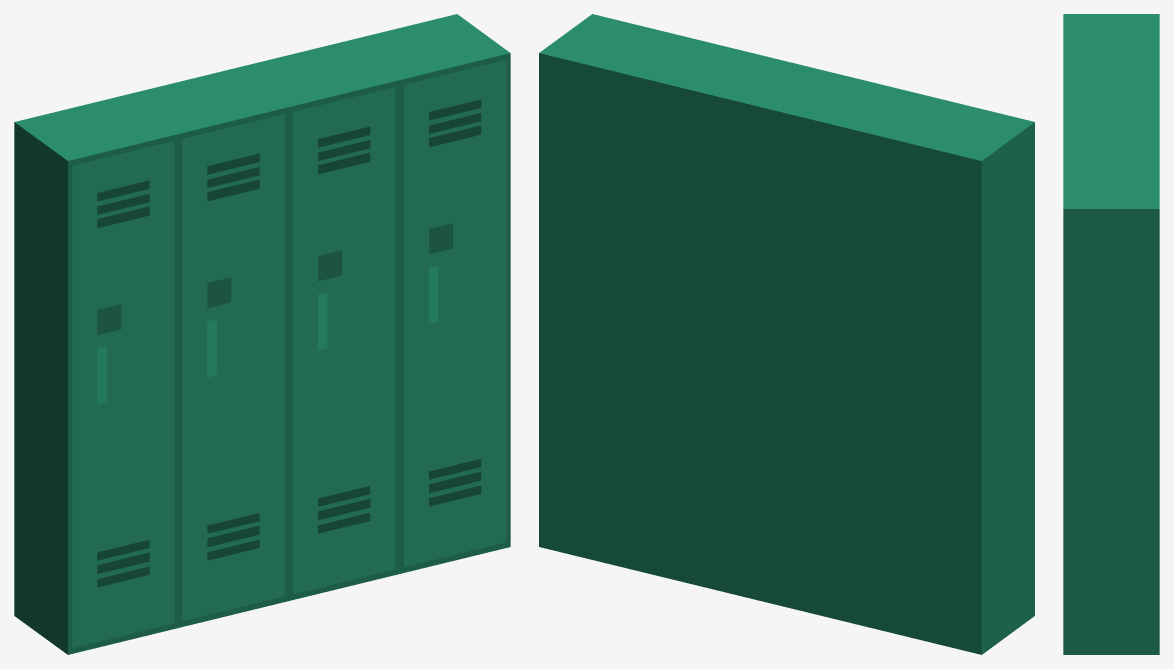
Rendered from SO_Lockers_02.fbx.
The picture shows the model from 3 angles, left to right: view 1: azimuth 30°, elevation 25°; view 2: azimuth 150°, elevation 25°; view 3: azimuth 270°, elevation 25°; orthographic projection. The views are drawn at different scales.
Visible parts, largest first — view 1: SO_Lockers_02; view 2: SO_Lockers_02; view 3: SO_Lockers_02.
Part boxes in pixels (x1,y1,x2,y2): SO_Lockers_02: [14, 14, 510, 654]; SO_Lockers_02: [539, 14, 1034, 654]; SO_Lockers_02: [1063, 14, 1159, 654].
Bounding box in the file's own units: 3.22 × 3.43 × 0.672.
